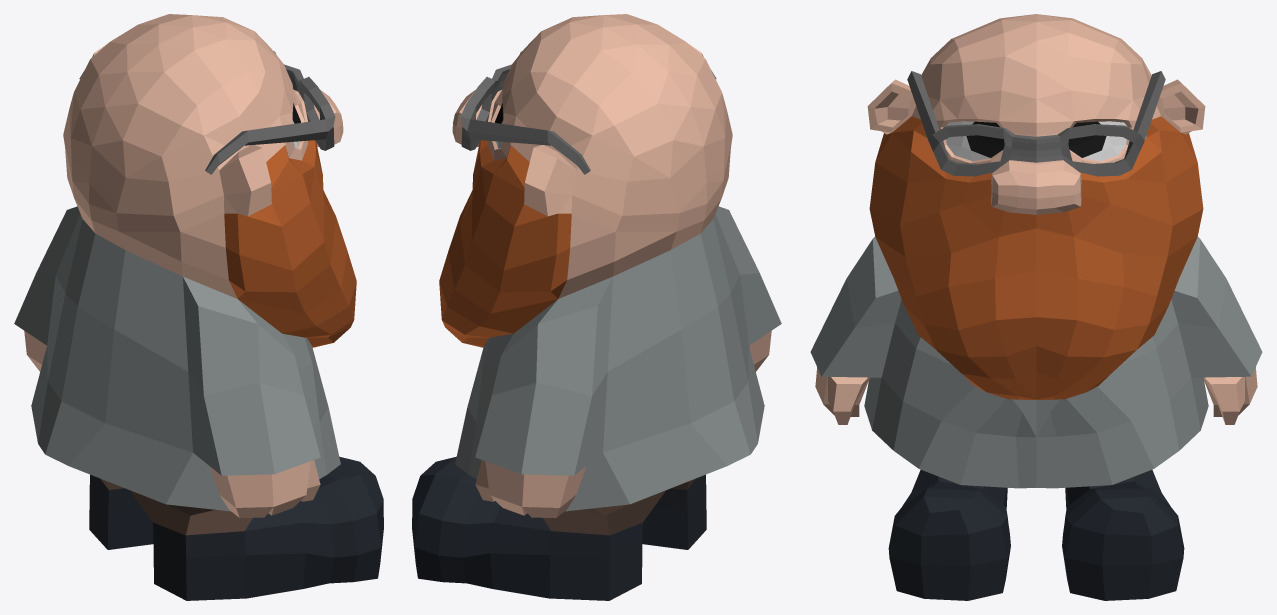
The model's file is Gnome_Markus.fbx.
The picture shows the model from 3 angles, left to right: view 1: azimuth 30°, elevation 25°; view 2: azimuth 150°, elevation 25°; view 3: azimuth 270°, elevation 25°; orthographic projection. The views are drawn at different scales.
Visible parts, largest first — view 1: Sphere.001; view 2: Sphere.001; view 3: Sphere.001.
Part boxes in pixels (bbox=[...]): Sphere.001: bbox=[14, 14, 383, 600]; Sphere.001: bbox=[412, 14, 781, 600]; Sphere.001: bbox=[810, 14, 1262, 600].
Size of the model in its own units: 19.5 by 34.25 by 27.25.
